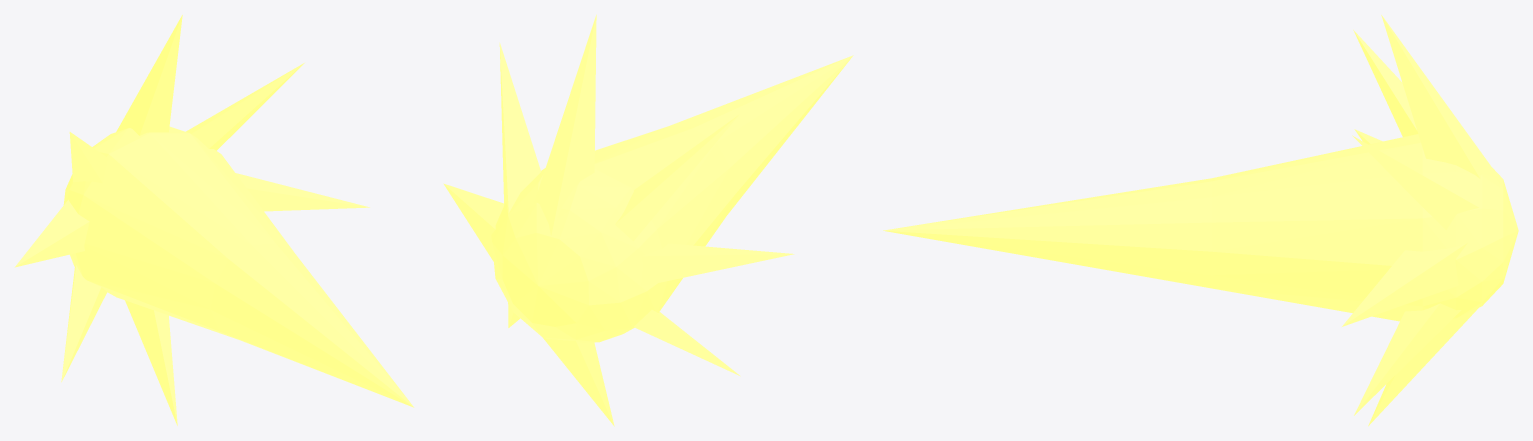
Rendered from mazzle_flash.glb.
The picture shows the model from 3 angles, left to right: view 1: azimuth 30°, elevation 25°; view 2: azimuth 150°, elevation 25°; view 3: azimuth 270°, elevation 25°; orthographic projection. The views are drawn at different scales.
Visible parts, largest first — view 1: wrapper.004; view 2: wrapper.004; view 3: wrapper.004.
Part boxes in pixels (bbox=[...]): wrapper.004: bbox=[14, 15, 414, 425]; wrapper.004: bbox=[443, 14, 853, 426]; wrapper.004: bbox=[883, 15, 1518, 426].
Bounding box in the file's own units: 0.0912 × 0.1009 × 0.139.
